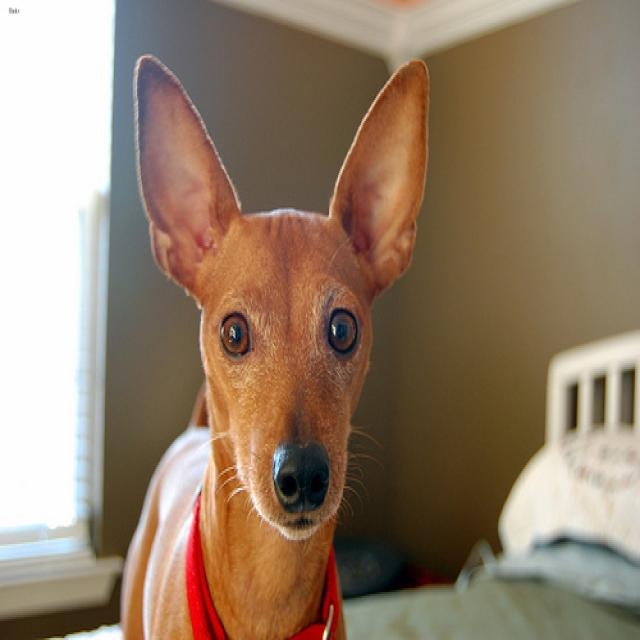dog-miniature_pinscher: (114, 46, 436, 636)
